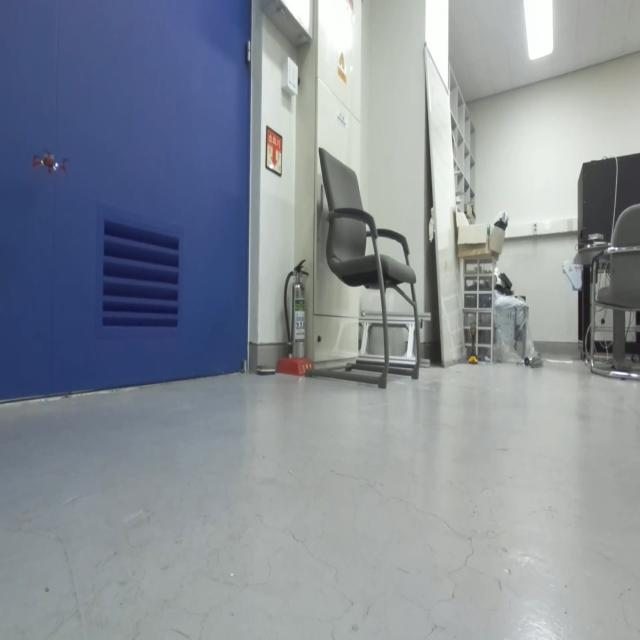crazyflie: (29, 141, 72, 184)
